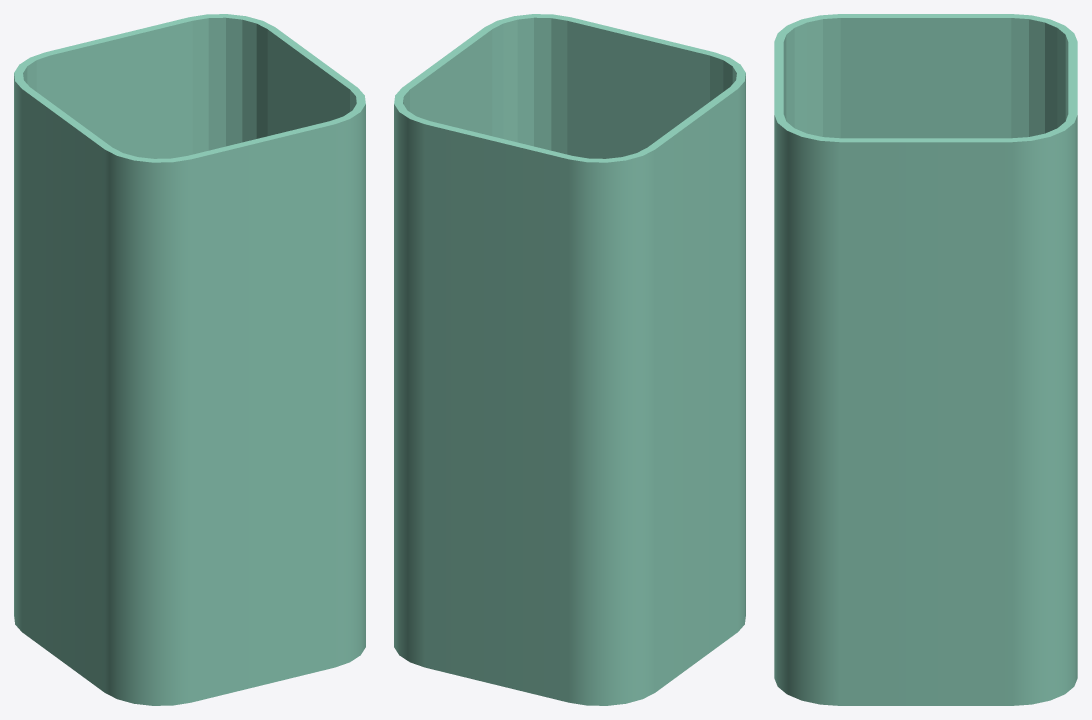
Rendered from FishtankGlassSection.fbx.
3 renders of one model, left to right at view 1: azimuth 30°, elevation 25°; view 2: azimuth 150°, elevation 25°; view 3: azimuth 270°, elevation 25°, orthographic. The views are drawn at different scales.
Visible parts, largest first — view 1: pCube282; view 2: pCube282; view 3: pCube282.
Part boxes in pixels (x1=…): pCube282: x1=14, y1=14, x2=365, y2=705; pCube282: x1=394, y1=14, x2=745, y2=705; pCube282: x1=774, y1=14, x2=1077, y2=705.
Bounding box in the file's own units: 488 × 1000 × 488.
